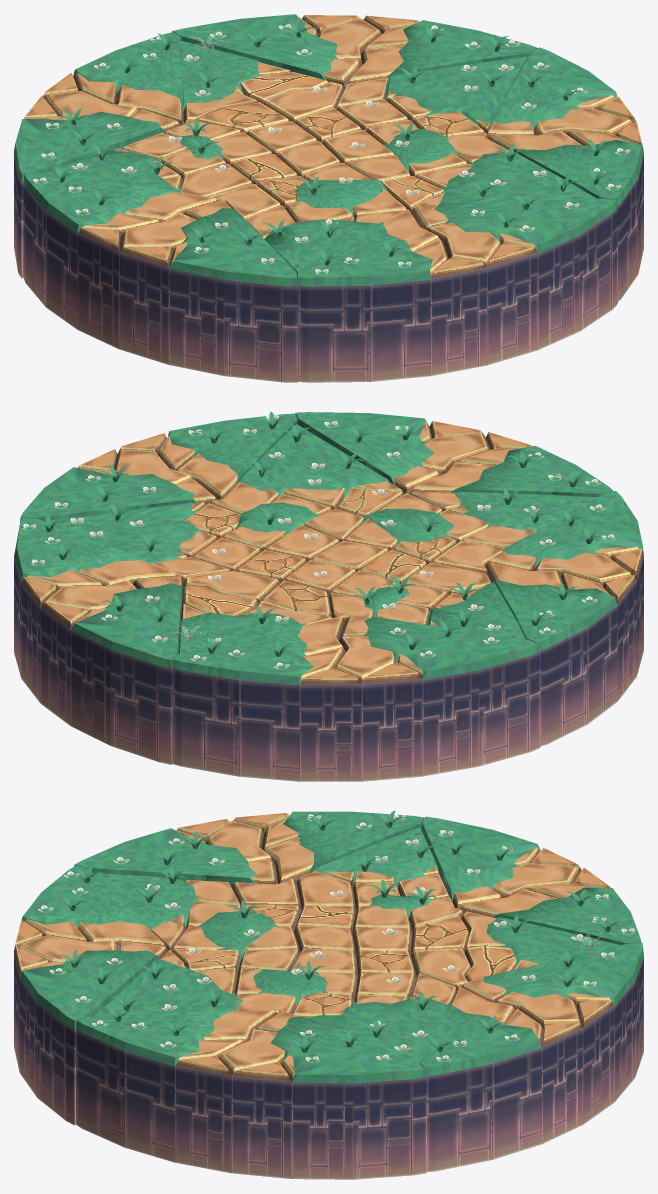
The model's file is Island.dae.
3 views of the same model, one above another, from view 1: azimuth 30°, elevation 25°; view 2: azimuth 150°, elevation 25°; view 3: azimuth 270°, elevation 25° (orthographic).
Visible parts, largest first — view 1: DrawCall_0804 (×3), DrawCall_0441 (×3), DrawCall_0295 (×2), DrawCall_0816 (×2), DrawCall_0313 (×2), DrawCall_0442 (×5), DrawCall_0325 (×5), DrawCall_0805 (×5), DrawCall_0448 (×5), DrawCall_0330 (×5), DrawCall_0317 (×2), DrawCall_0321 (×5) (+64 smaller); view 2: DrawCall_0804 (×2), DrawCall_0441 (×2), DrawCall_0313 (×3), DrawCall_0295 (×3), DrawCall_0816 (×2), DrawCall_0442 (×5), DrawCall_0325 (×5), DrawCall_0805 (×5), DrawCall_0448 (×5), DrawCall_0317 (×3), DrawCall_0330 (×5), DrawCall_0321 (×5) (+63 smaller); view 3: DrawCall_0804 (×3), DrawCall_0441 (×2), DrawCall_0816 (×3), DrawCall_0295 (×3), DrawCall_0313 (×2), DrawCall_0442 (×5), DrawCall_0325 (×5), DrawCall_0805 (×5), DrawCall_0317 (×2), DrawCall_0448 (×5), DrawCall_0330 (×5), DrawCall_0321 (×5) (+62 smaller).
Boxes of the visible parts, x1,y1,x2,y2 form: DrawCall_0804 (×3): (14,152,617,382); DrawCall_0441 (×3): (23,179,638,382); DrawCall_0295 (×2): (119,253,537,365); DrawCall_0816 (×2): (168,235,579,375); DrawCall_0313 (×2): (77,234,486,375); DrawCall_0442 (×5): (24,30,638,286); DrawCall_0325 (×5): (44,18,632,268); DrawCall_0805 (×5): (14,19,617,286); DrawCall_0448 (×5): (46,20,643,285); DrawCall_0330 (×5): (115,44,582,251); DrawCall_0317 (×2): (46,237,430,381); DrawCall_0321 (×5): (93,43,554,233); DrawCall_0804 (×2): (111,647,540,766); DrawCall_0441 (×2): (172,629,587,776); DrawCall_0313 (×3): (21,581,636,781); DrawCall_0295 (×3): (40,555,643,781); DrawCall_0816 (×2): (70,630,479,776); DrawCall_0442 (×5): (14,413,612,680); DrawCall_0325 (×5): (46,433,631,685); DrawCall_0805 (×5): (20,412,637,670); DrawCall_0448 (×5): (14,420,617,685); DrawCall_0317 (×3): (14,583,617,781); DrawCall_0330 (×5): (79,453,562,655); DrawCall_0321 (×5): (127,448,571,643); DrawCall_0804 (×3): (37,957,643,1179); DrawCall_0441 (×2): (76,1029,492,1171); DrawCall_0816 (×3): (19,977,635,1179); DrawCall_0295 (×3): (14,952,614,1178); DrawCall_0313 (×2): (175,1029,582,1172); DrawCall_0442 (×5): (41,811,640,1076); DrawCall_0325 (×5): (19,820,582,1076); DrawCall_0805 (×5): (37,816,643,1083); DrawCall_0317 (×2): (124,1075,541,1162); DrawCall_0448 (×5): (21,811,630,1066); DrawCall_0330 (×5): (77,837,557,1042); DrawCall_0321 (×5): (89,852,546,1044).
Size of the model in its own units: 1653 by 339 by 1660.
7 materials, 7 textured.
